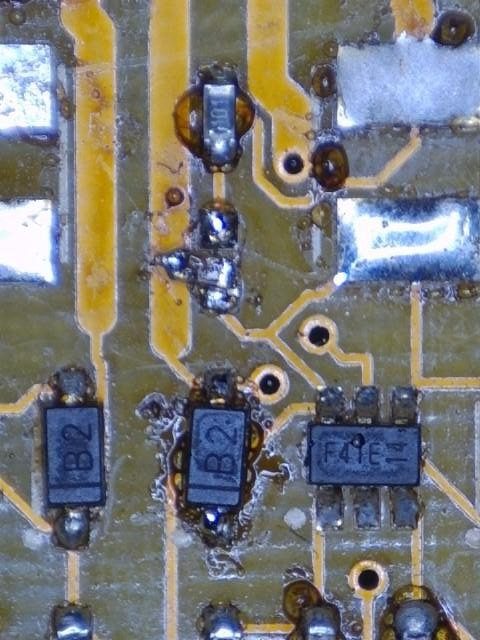pcb_defect: (159, 251, 242, 311), (393, 602, 437, 636), (391, 488, 421, 529), (317, 486, 344, 527), (355, 488, 380, 528)
